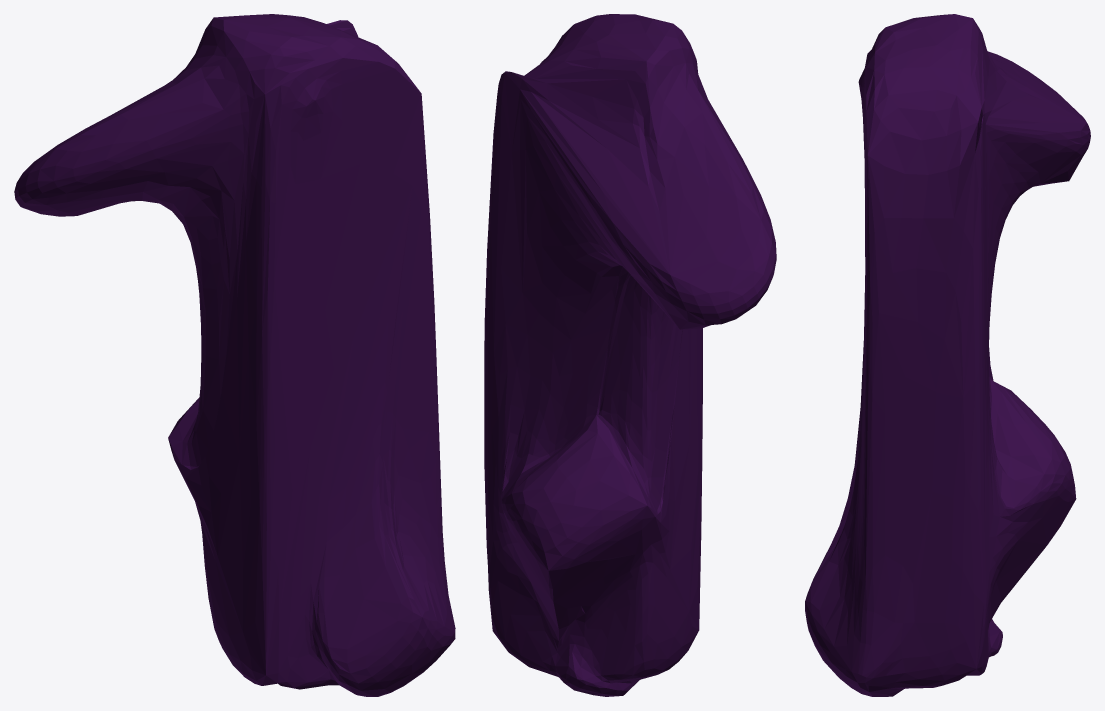
3 views of the same model, side by side, from view 1: azimuth 30°, elevation 25°; view 2: azimuth 150°, elevation 25°; view 3: azimuth 270°, elevation 25° (orthographic). The views are drawn at different scales.
Parts seen in each view (by area): view 1: 758_Cube.3051; view 2: 758_Cube.3051; view 3: 758_Cube.3051.
Part boxes in pixels (x1=…): 758_Cube.3051: x1=14, y1=14, x2=455, y2=696; 758_Cube.3051: x1=484, y1=14, x2=776, y2=696; 758_Cube.3051: x1=805, y1=14, x2=1090, y2=696.
Bounding box in the file's own units: 6.63 × 12.45 × 5.12.
